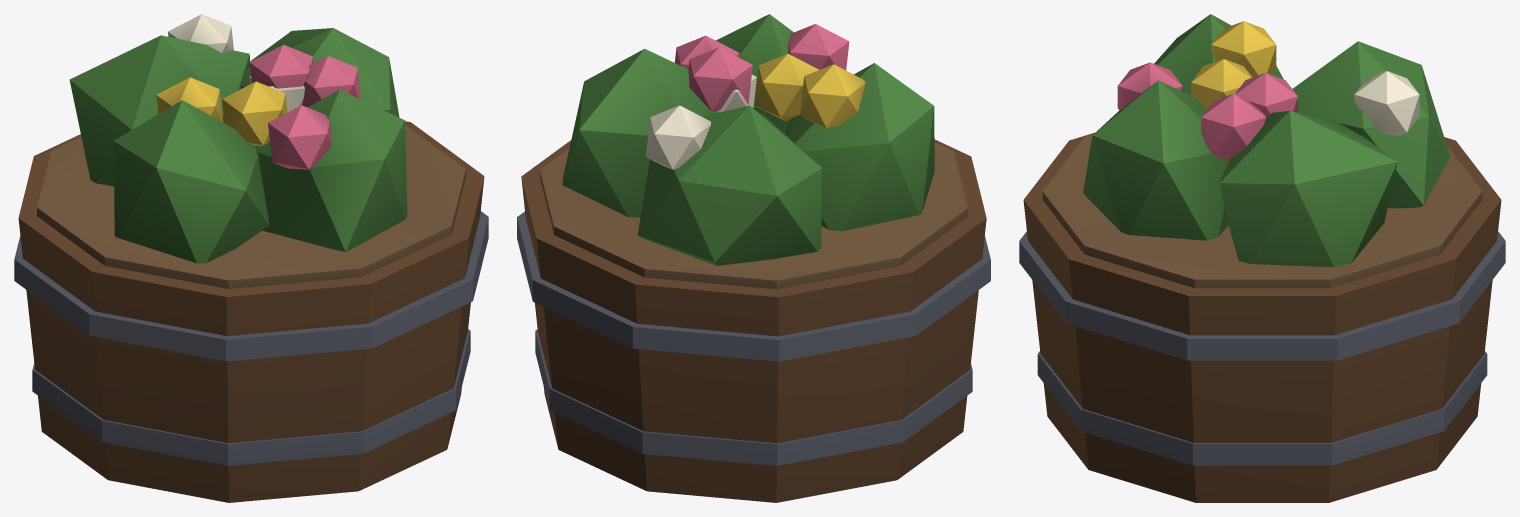
Rendered from flower_tub.glb.
3 renders of one model, left to right at view 1: azimuth 30°, elevation 25°; view 2: azimuth 150°, elevation 25°; view 3: azimuth 270°, elevation 25°, orthographic.
Visible parts, largest first — view 1: Body; view 2: Body; view 3: Body.
Part boxes in pixels (x1,y1,x2,y2): Body: [14, 14, 488, 502]; Body: [517, 14, 990, 502]; Body: [1019, 14, 1505, 502].
Bounding box in the file's own units: 0.9682 × 0.833 × 1.02.
Materials: 1 (1 with a texture image).
